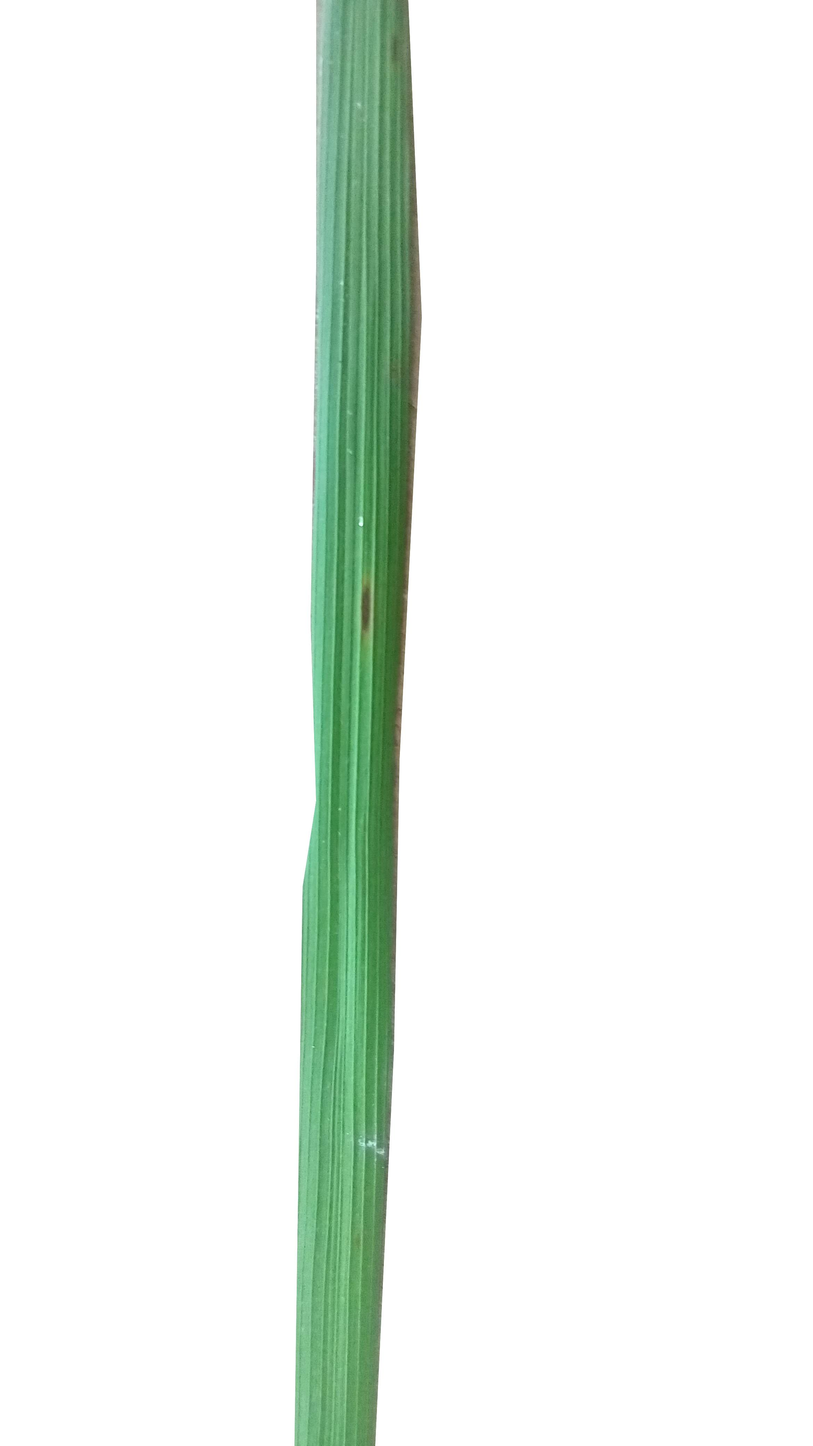Brown spot: (351, 563, 390, 660)
